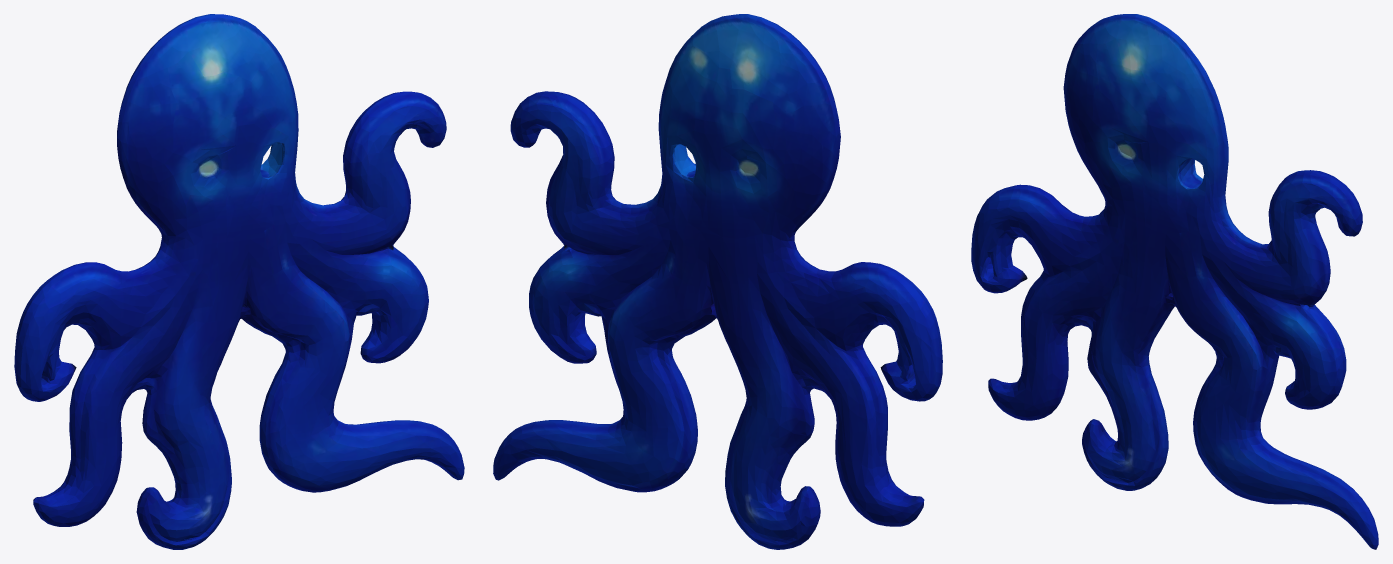
The model's file is octopus.glb.
The picture shows the model from 3 angles, left to right: view 1: azimuth 30°, elevation 25°; view 2: azimuth 150°, elevation 25°; view 3: azimuth 330°, elevation 25°; orthographic projection. The views are drawn at different scales.
Parts seen in each view (by area): view 1: world; view 2: world; view 3: world.
Boxes of the visible parts, x1,y1,x2,y2 form: world: (14,14,464,549); world: (493,14,942,549); world: (971,14,1378,549).
Bounding box in the file's own units: 0.8889 × 0.9994 × 0.0985.
1 material, 1 textured.
